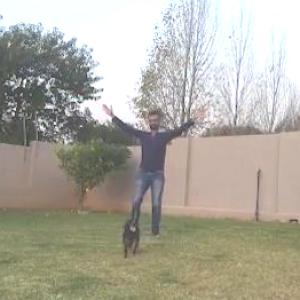takeoff: (104, 104, 206, 231)
